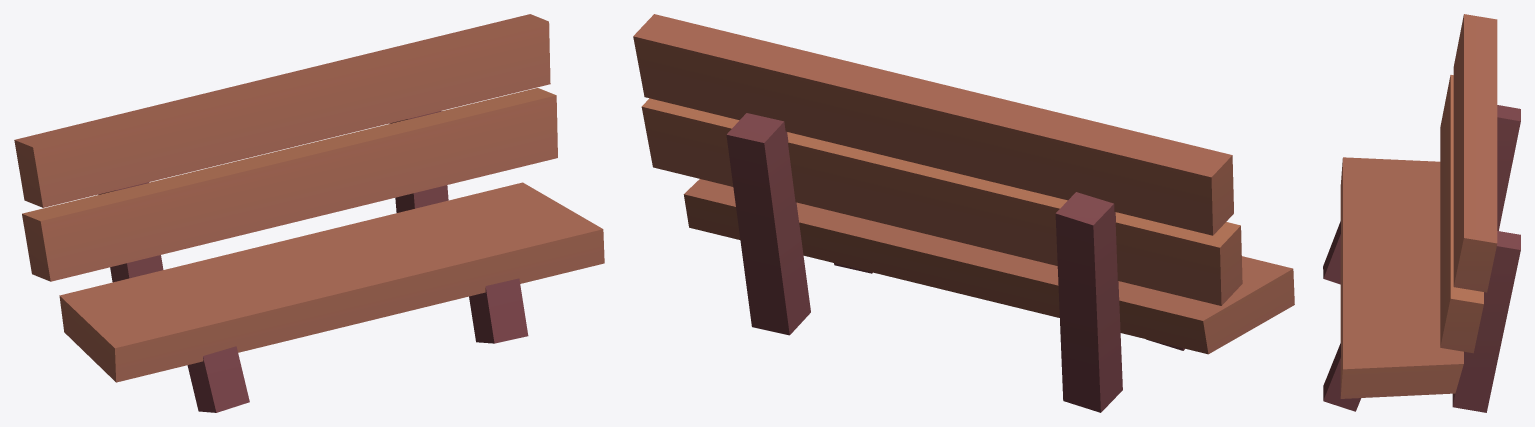
File: p-banco.glb
The picture shows the model from 3 angles, left to right: view 1: azimuth 30°, elevation 25°; view 2: azimuth 150°, elevation 25°; view 3: azimuth 270°, elevation 25°; orthographic projection. The views are drawn at different scales.
Visible parts, largest first — view 1: Bench; view 2: Bench; view 3: Bench.
Boxes of the visible parts, x1,y1,x2,y2 form: Bench: (14,14,604,412); Bench: (633,14,1294,412); Bench: (1323,14,1520,412).
Bounding box in the file's own units: 0.7116 × 0.3245 × 0.2656.
1 material, 1 textured.
